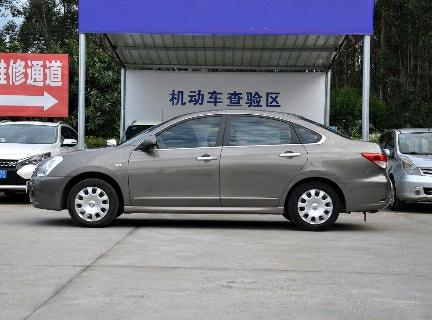car: (19, 106, 401, 242)
